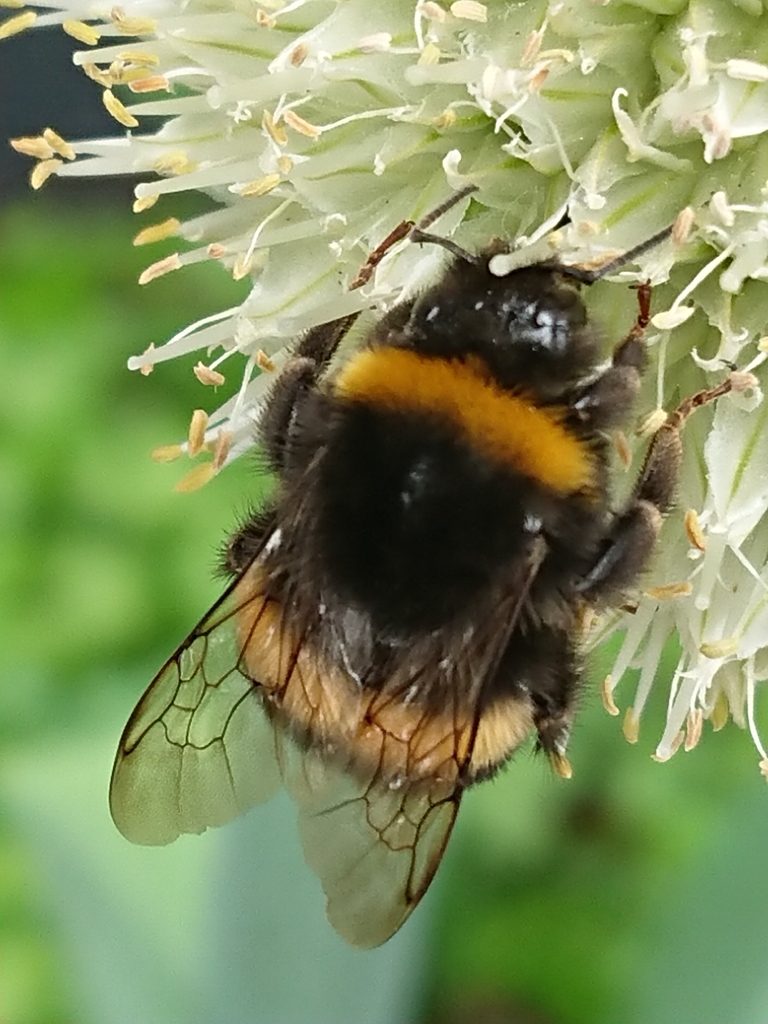bumblebee: (105, 237, 734, 957)
